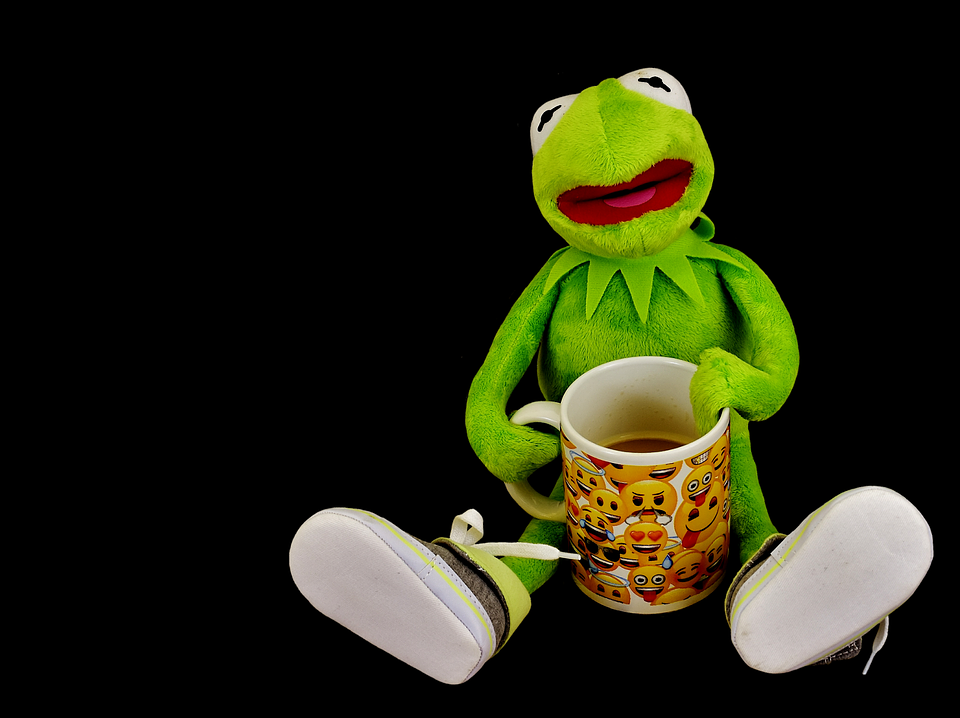kermit: (527, 64, 717, 261)
